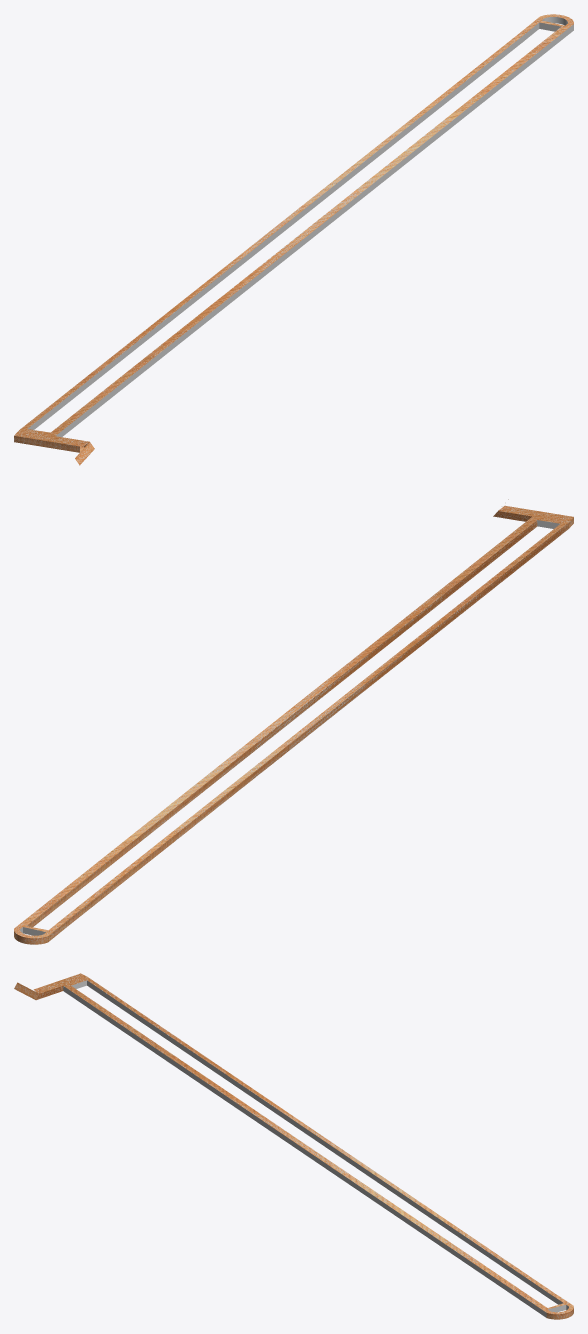
File: original-4.obj
3 views of the same model, one above another, from view 1: azimuth 30°, elevation 25°; view 2: azimuth 210°, elevation 25°; view 3: azimuth 270°, elevation 25° (orthographic). The views are drawn at different scales.
Parts seen in each view (by area): view 1: mesh4/mesh4-geometry#mesh4-geometry; view 2: mesh4/mesh4-geometry#mesh4-geometry; view 3: mesh4/mesh4-geometry#mesh4-geometry.
Part boxes in pixels (<box>): mesh4/mesh4-geometry#mesh4-geometry: <box>14,14,573,465</box>; mesh4/mesh4-geometry#mesh4-geometry: <box>14,499,573,944</box>; mesh4/mesh4-geometry#mesh4-geometry: <box>14,973,573,1319</box>.
Bounding box in the file's own units: 0.43 × 0.0031 × 0.2984.
